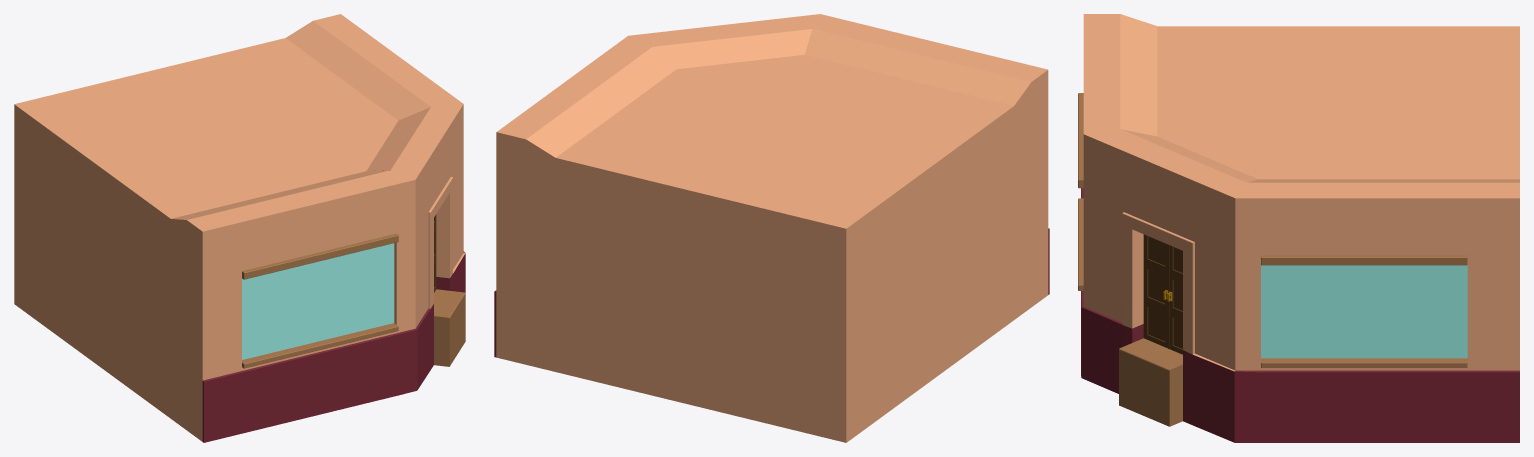
File: Edificio_Grande_Esquina02.fbx
3 renders of one model, left to right at view 1: azimuth 30°, elevation 25°; view 2: azimuth 150°, elevation 25°; view 3: azimuth 270°, elevation 25°, orthographic. The views are drawn at different scales.
Visible parts, largest first — view 1: Edificio_Esquina01; view 2: Edificio_Esquina01; view 3: Edificio_Esquina01.
Boxes of the visible parts, x1,y1,x2,y2 form: Edificio_Esquina01: [14, 14, 465, 442]; Edificio_Esquina01: [494, 14, 1049, 442]; Edificio_Esquina01: [1078, 14, 1519, 442].
Size of the model in its own units: 822 by 500 by 822.
